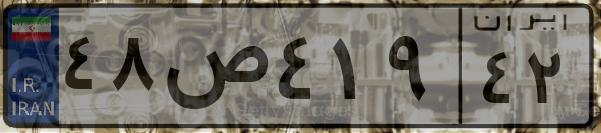1: (330, 28, 385, 110)
2: (525, 38, 570, 115)
4: (270, 28, 330, 110), (57, 26, 110, 100), (475, 38, 525, 113)
8: (110, 28, 158, 98)
9: (385, 28, 445, 110)
ص: (158, 20, 270, 120)
